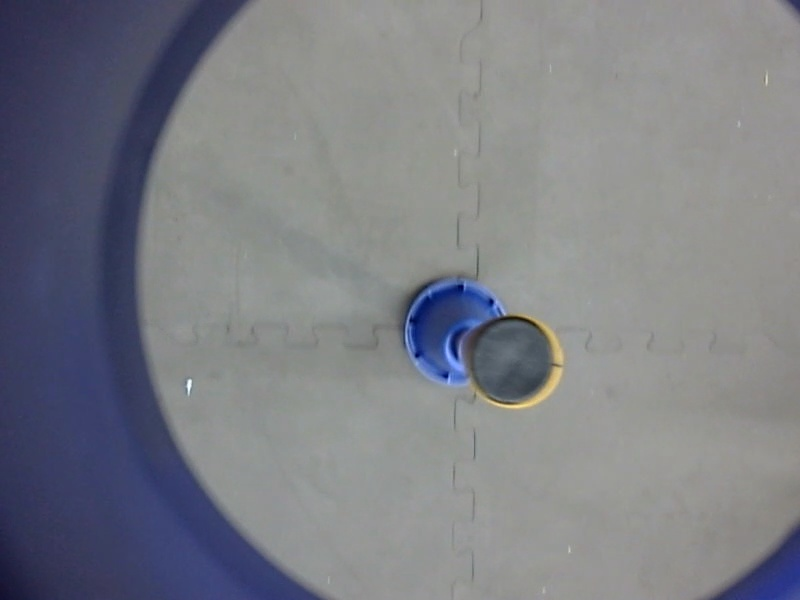tip: (462, 310, 568, 416)
